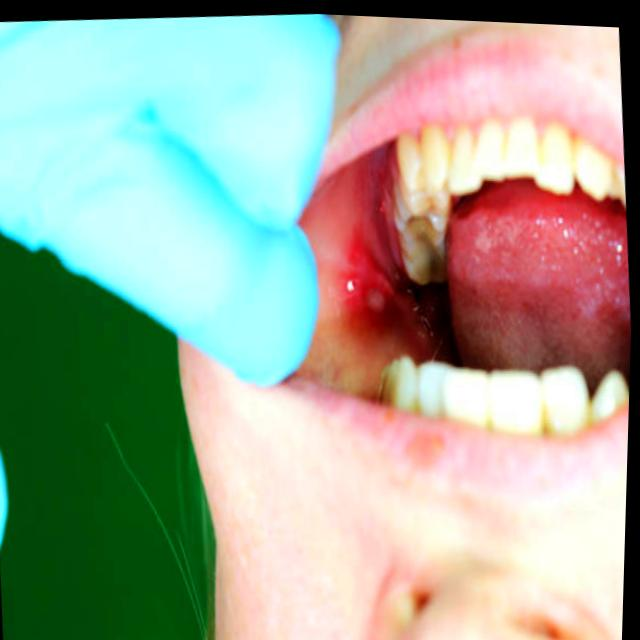ulcer: (299, 147, 456, 397)
